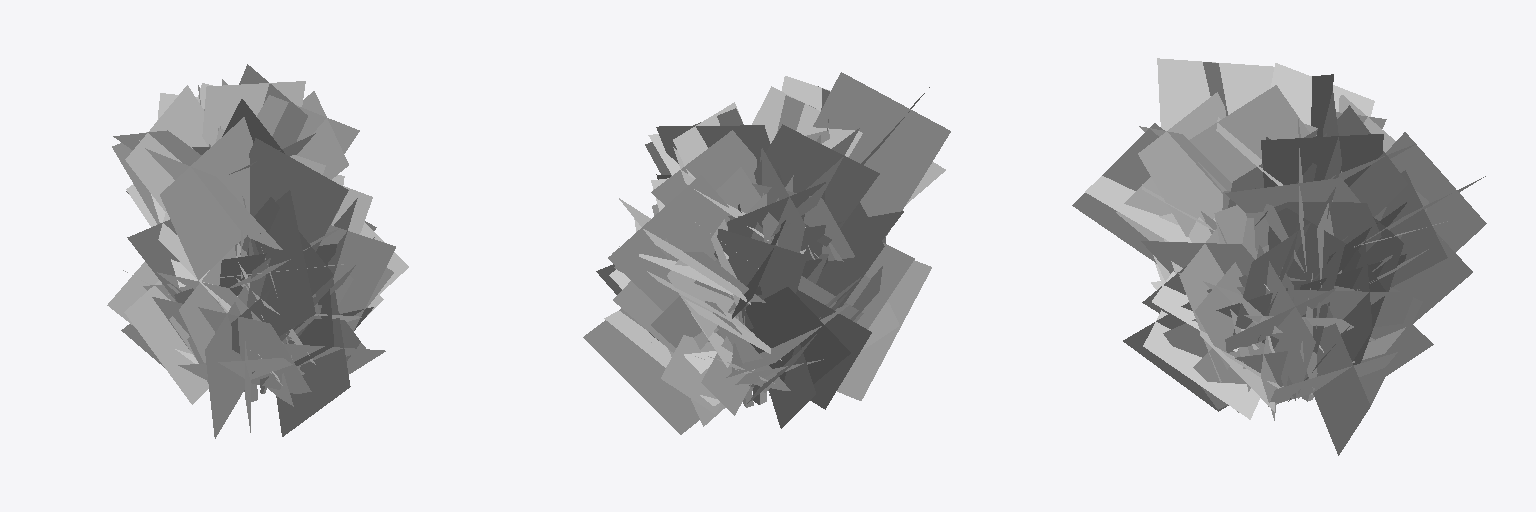
File: bush01.obj
3 views of the same model, side by side, from view 1: azimuth 30°, elevation 25°; view 2: azimuth 150°, elevation 25°; view 3: azimuth 270°, elevation 25° (orthographic).
Parts seen in each view (by area): view 1: bush01; view 2: bush01; view 3: bush01.
Part boxes in pixels (left/top/right/bottom): bush01: left=107, top=64, right=408, bottom=438; bush01: left=583, top=72, right=950, bottom=434; bush01: left=1072, top=58, right=1486, bottom=455.
Bounding box in the file's own units: 2.17 × 2.55 × 2.8.